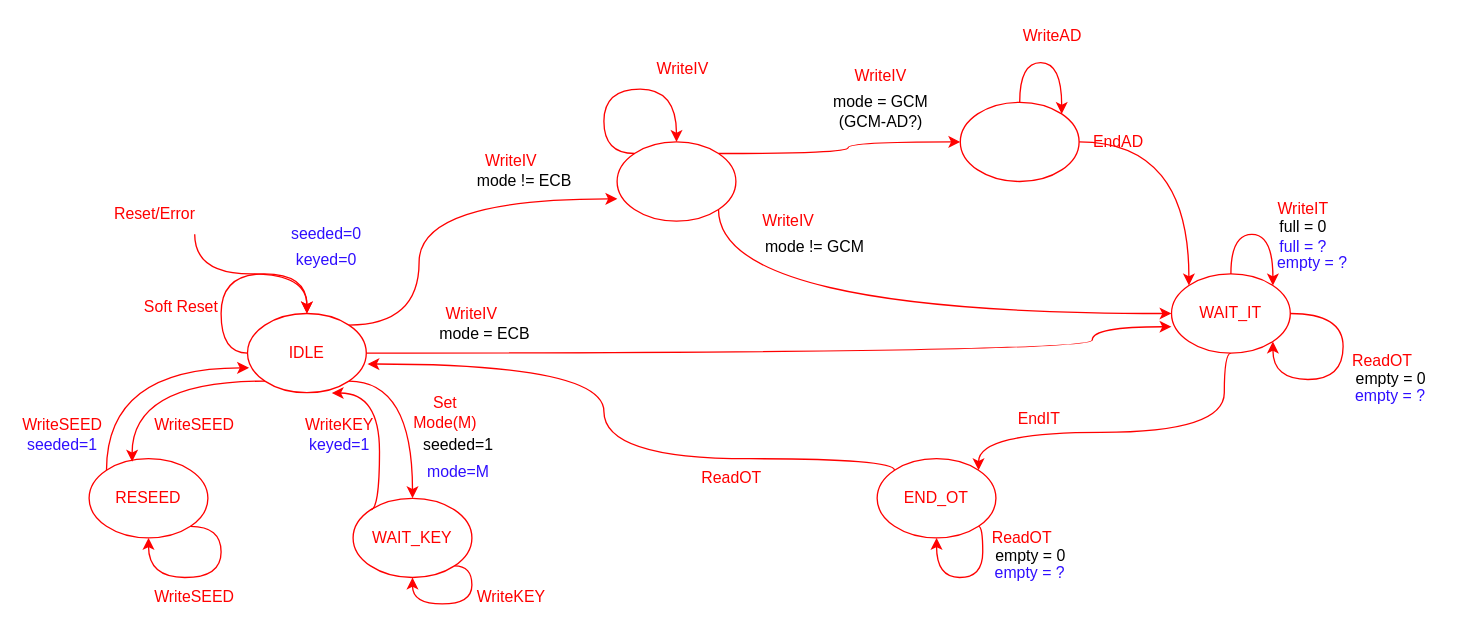
This 1461x639 diagram has some shape labels left out. The box of each missing label's shape, as (x1, y1, x2, y2) in pixels:
WAIT_AD: (959, 101, 1079, 182)
WAIT_IV: (616, 141, 736, 221)
